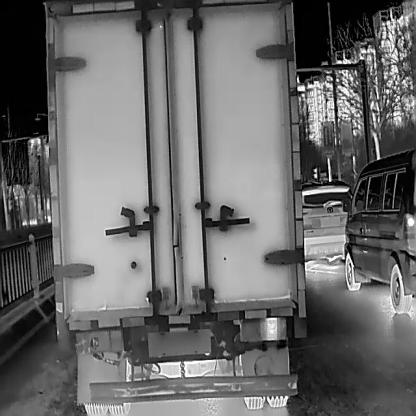car: (344, 148, 416, 312), (302, 179, 354, 265)
truck: (43, 0, 306, 414)
